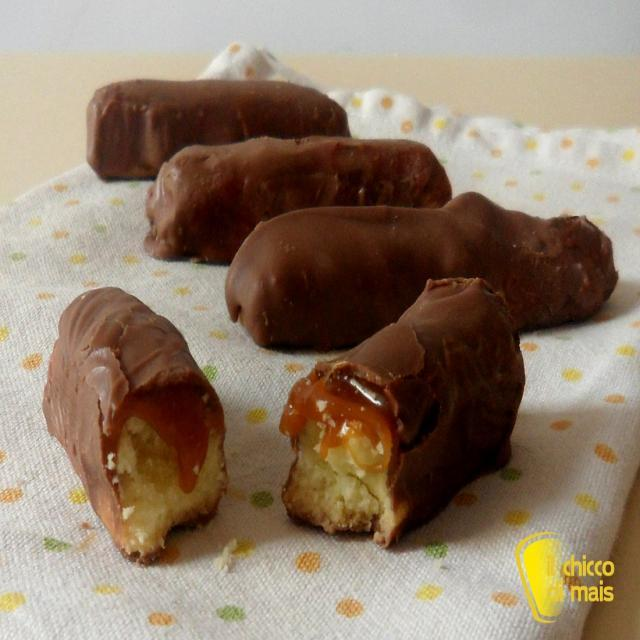Chocolate bar packaged: (279, 268, 529, 550), (226, 195, 620, 356), (40, 287, 232, 570), (143, 136, 459, 262), (84, 79, 358, 179)
